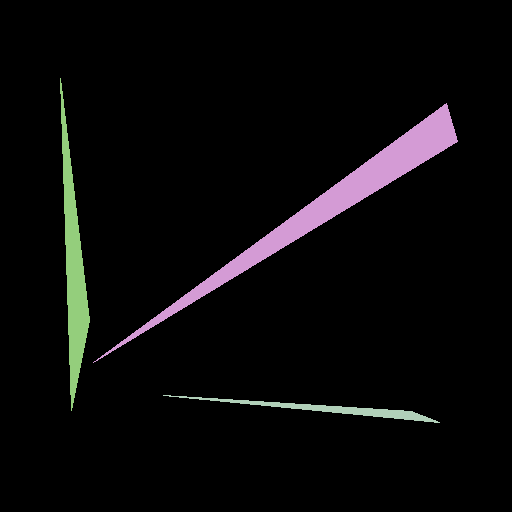triangle: (93, 103, 456, 362), (60, 78, 89, 410)
